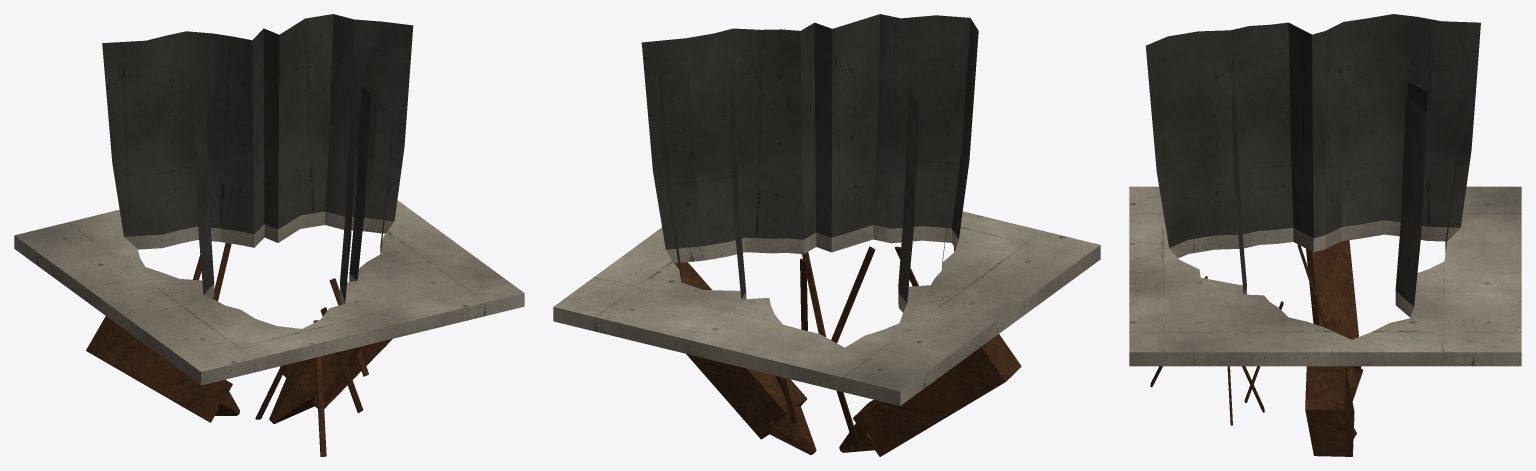
File: Ceiling_Collapse.gltf
3 views of the same model, side by side, from view 1: azimuth 30°, elevation 25°; view 2: azimuth 150°, elevation 25°; view 3: azimuth 270°, elevation 25° (orthographic). The views are drawn at different scales.
Visible parts, largest first — view 1: Ceiling_Collapse_Plaster, Ceiling_Collapse_Wood; view 2: Ceiling_Collapse_Plaster, Ceiling_Collapse_Wood; view 3: Ceiling_Collapse_Plaster, Ceiling_Collapse_Wood.
Part boxes in pixels (x1=…): Ceiling_Collapse_Plaster: x1=14, y1=14, x2=524, y2=385; Ceiling_Collapse_Wood: x1=86, y1=243, x2=392, y2=456; Ceiling_Collapse_Plaster: x1=553, y1=14, x2=1100, y2=405; Ceiling_Collapse_Wood: x1=674, y1=246, x2=1021, y2=456; Ceiling_Collapse_Plaster: x1=1129, y1=14, x2=1521, y2=366; Ceiling_Collapse_Wood: x1=1150, y1=240, x2=1363, y2=456.
Bounding box in the file's own units: 2.16 × 2.1 × 2.
Materials: 4 (3 with a texture image).
